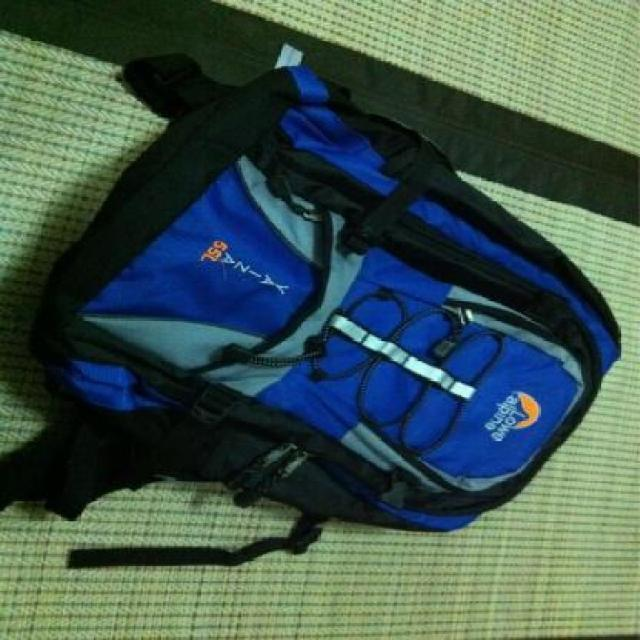backpack: (14, 52, 628, 546)
